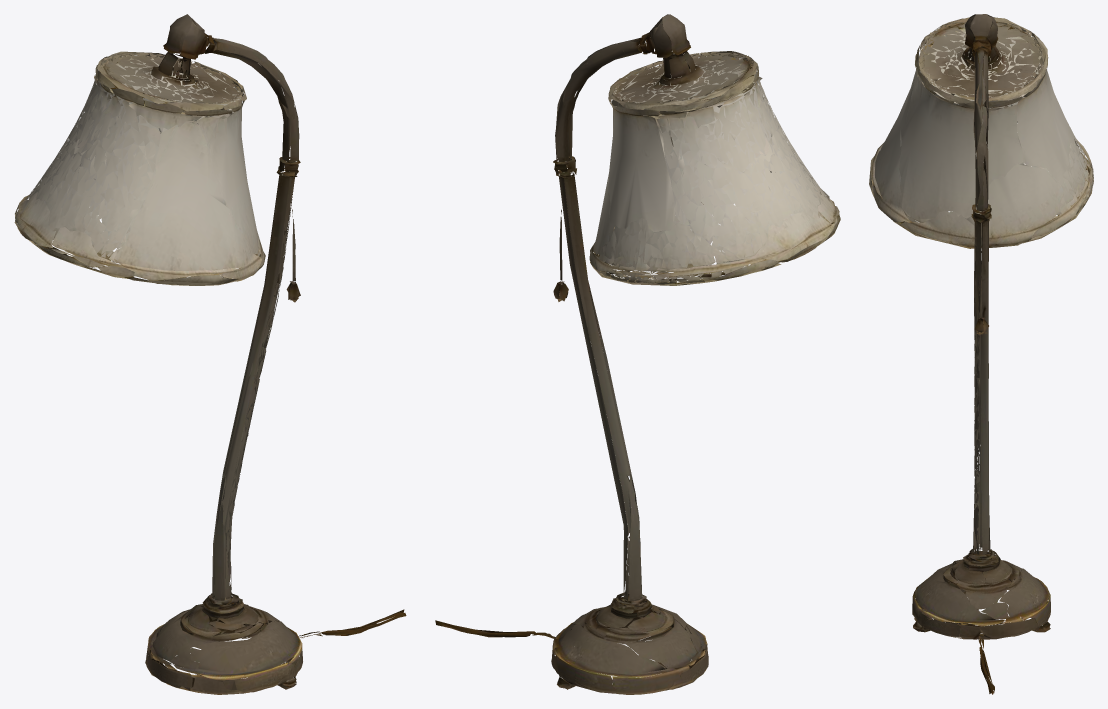
Rendered from lamp_lod0.glb.
3 views of the same model, side by side, from view 1: azimuth 30°, elevation 25°; view 2: azimuth 150°, elevation 25°; view 3: azimuth 270°, elevation 25° (orthographic). The views are drawn at different scales.
Parts seen in each view (by area): view 1: node_0; view 2: node_0; view 3: node_0.
Boxes of the visible parts, bbox=[...] form: node_0: bbox=[14, 14, 406, 694]; node_0: bbox=[435, 14, 840, 694]; node_0: bbox=[869, 14, 1093, 694].
Bounding box in the file's own units: 0.6022 × 0.9993 × 0.3466.
Materials: 1 (1 with a texture image).
